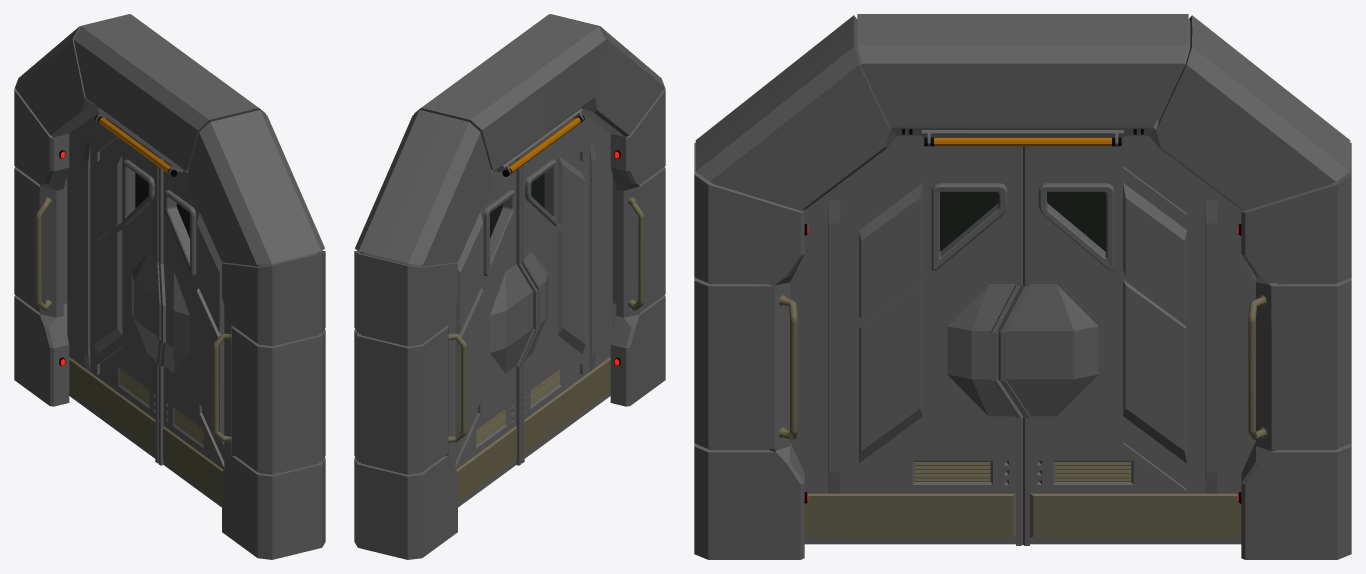
File: Ship_Door.fbx
The picture shows the model from 3 angles, left to right: view 1: azimuth 30°, elevation 25°; view 2: azimuth 150°, elevation 25°; view 3: azimuth 270°, elevation 25°; orthographic projection. The views are drawn at different scales.
Parts seen in each view (by area): view 1: Frame, DoorRightLeaf, DoorLeftLeaf, Handrail, FluorescentTube.001; view 2: Frame, DoorLeftLeaf, DoorRightLeaf, Handrail, FluorescentTube.001; view 3: Frame, DoorRightLeaf, DoorLeftLeaf, FluorescentTube.001, Handrail.
Boxes of the visible parts, x1,y1,x2,y2 form: Frame: (14,14,325,559); DoorRightLeaf: (67,112,160,463); DoorLeftLeaf: (158,156,231,507); Handrail: (35,197,231,442); FluorescentTube.001: (95,108,183,176); Frame: (354,14,665,559); DoorLeftLeaf: (521,112,612,463); DoorRightLeaf: (448,156,537,507); Handrail: (448,197,644,442); FluorescentTube.001: (496,108,584,176); Frame: (694,14,1351,559); DoorRightLeaf: (998,135,1255,545); DoorLeftLeaf: (790,135,1022,545); FluorescentTube.001: (922,130,1123,147); Handrail: (778,295,1267,440).
Bounding box in the file's own units: 68.75 × 286 × 334.
